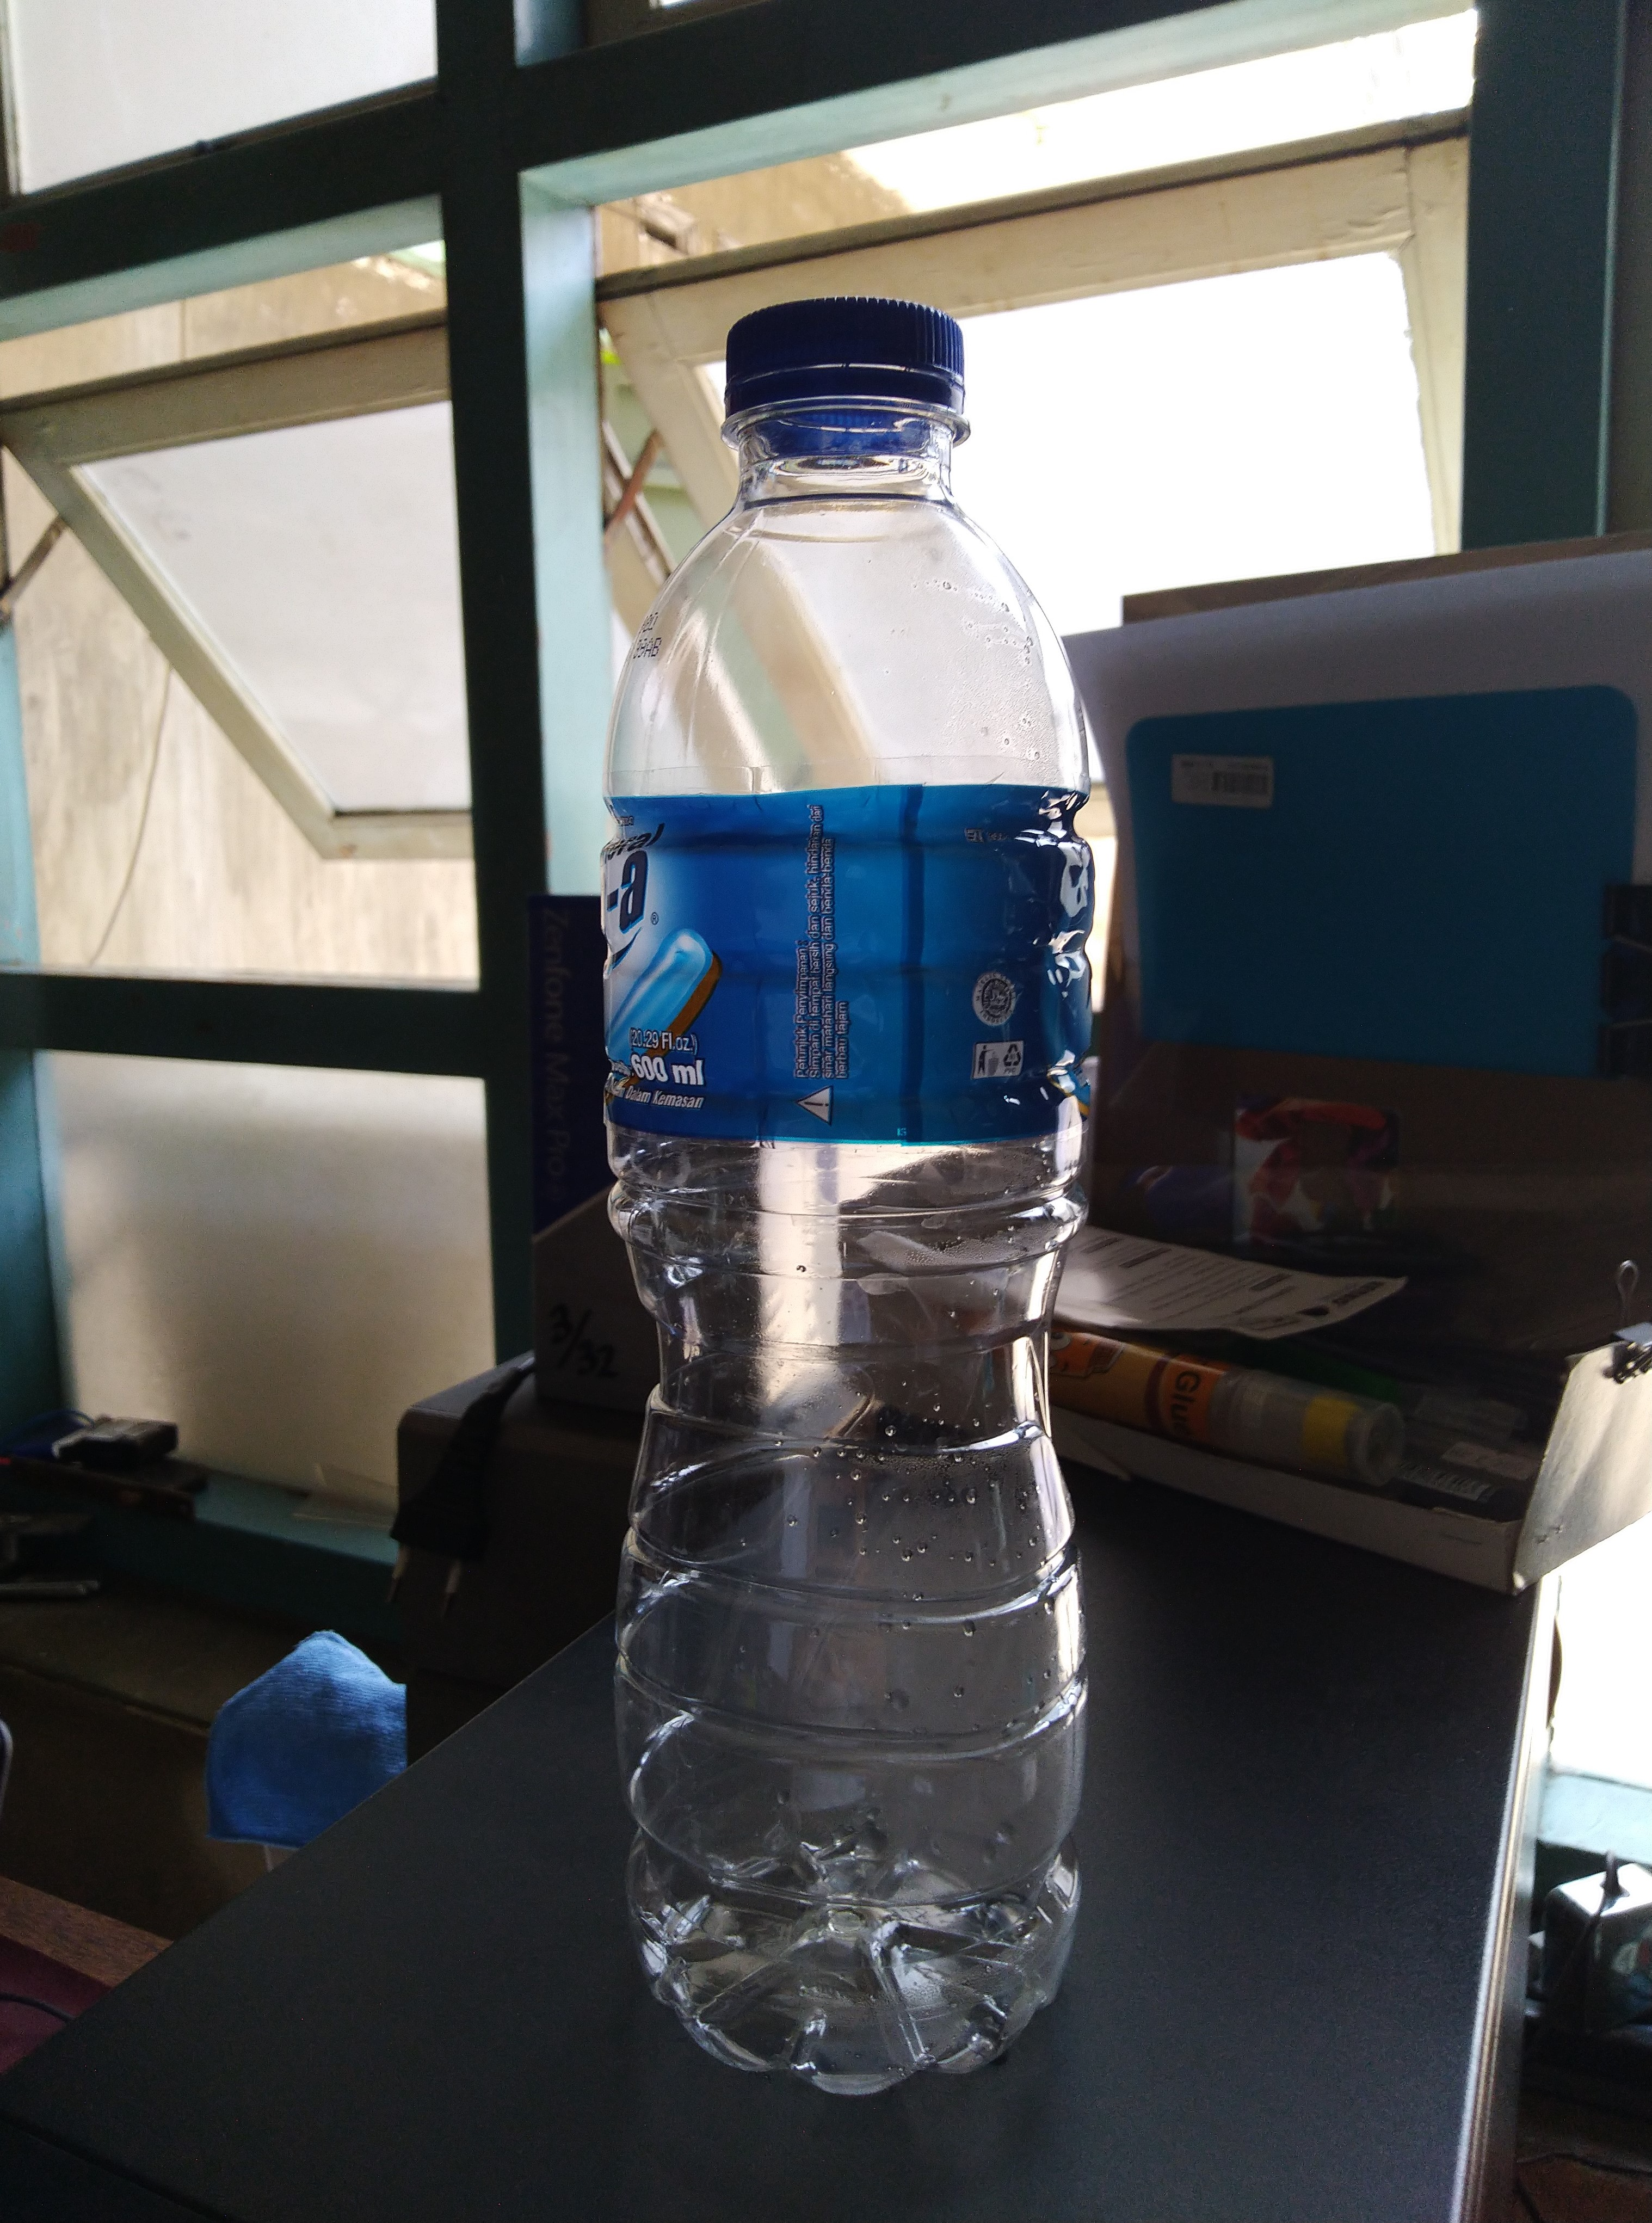HDPE: (729, 300, 968, 415)
PET: (602, 446, 1072, 2062)
